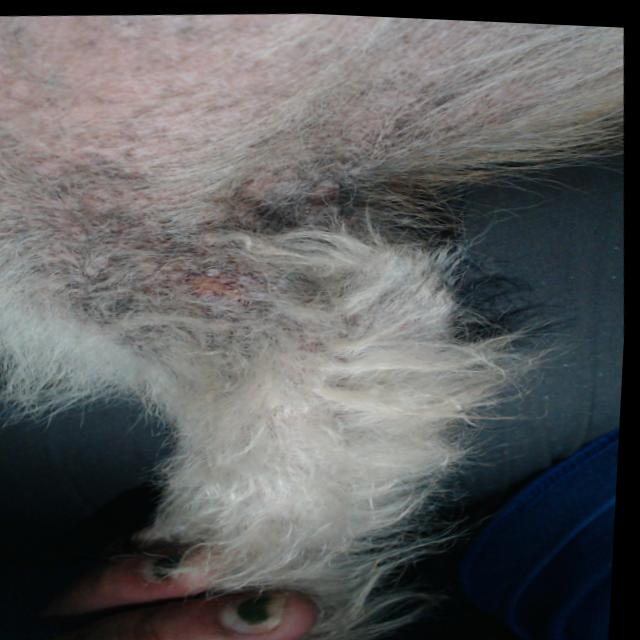demodicosis: (51, 196, 276, 341), (268, 138, 368, 206)
